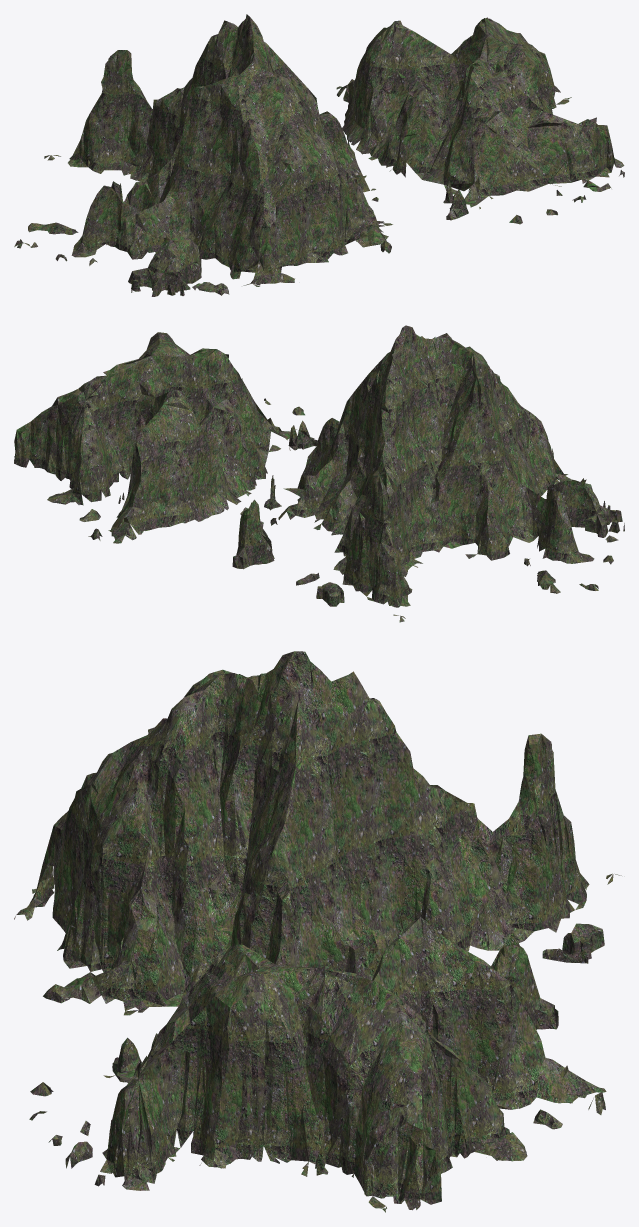
File: island.fbx
3 views of the same model, one above another, from view 1: azimuth 30°, elevation 25°; view 2: azimuth 150°, elevation 25°; view 3: azimuth 270°, elevation 25° (orthographic). The views are drawn at different scales.
Visible parts, largest first — view 1: Dokdo; view 2: Dokdo; view 3: Dokdo.
Boxes of the visible parts, x1=… form: Dokdo: x1=14, y1=14, x2=624, y2=296; Dokdo: x1=14, y1=325, x2=624, y2=622; Dokdo: x1=14, y1=651, x2=621, y2=1212.
Bounding box in the file's own units: 714 × 243 × 428.
Materials: 1 (1 with a texture image).
